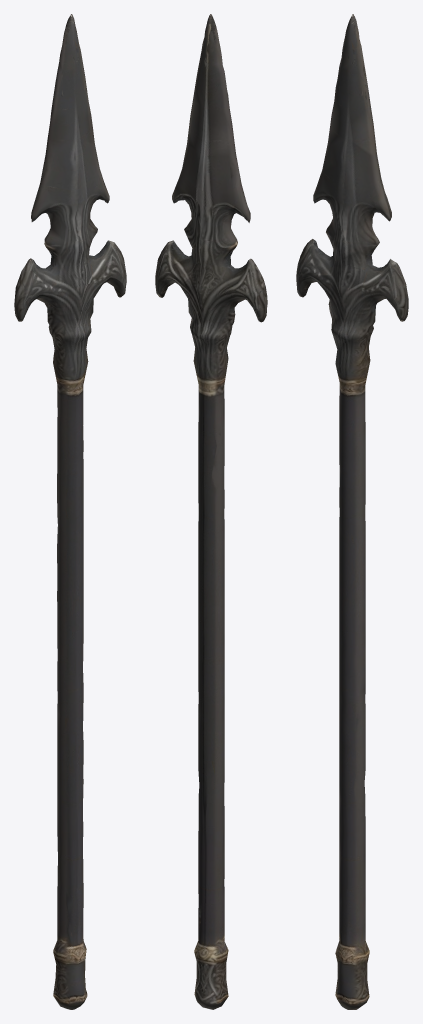
The model's file is 1603_spear.glb.
3 renders of one model, left to right at view 1: azimuth 30°, elevation 25°; view 2: azimuth 150°, elevation 25°; view 3: azimuth 330°, elevation 25°, orthographic.
Parts seen in each view (by area): view 1: Model; view 2: Model; view 3: Model.
Part boxes in pixels (<box>): Model: <box>14,14,126,1009</box>; Model: <box>155,14,267,1009</box>; Model: <box>296,14,408,1009</box>.
Bounding box in the file's own units: 0.1167 × 1 × 0.0404.
1 material, 1 textured.
